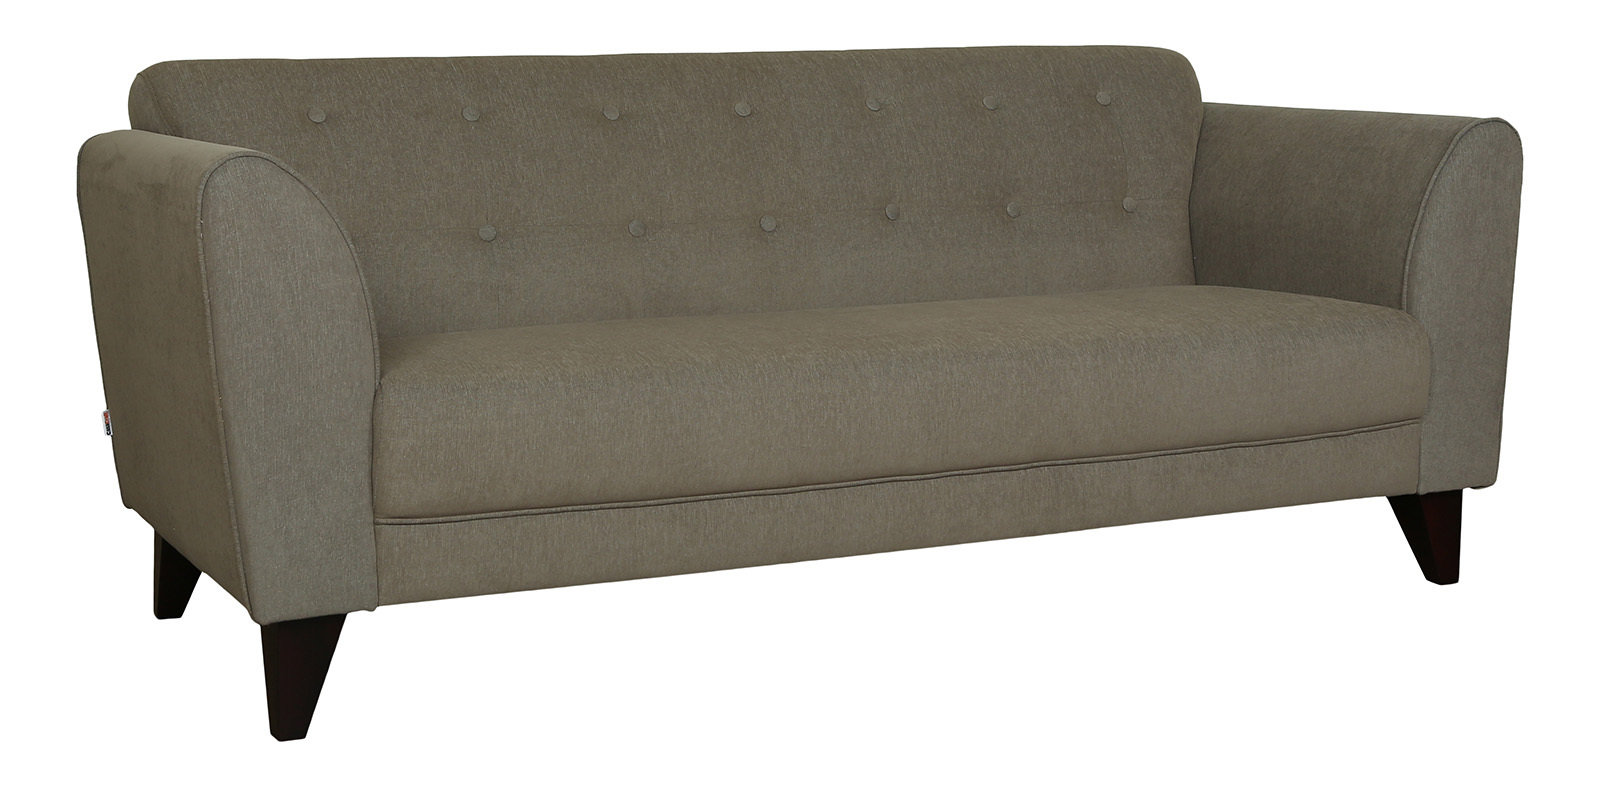Belem Three Seater Sofa in Ice Blue Color by CasaCraft: (64, 50, 1528, 626)
